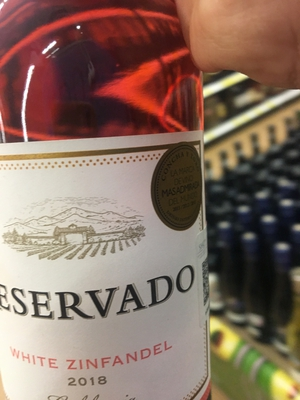reservado white zinfandel: (2, 6, 213, 400)
